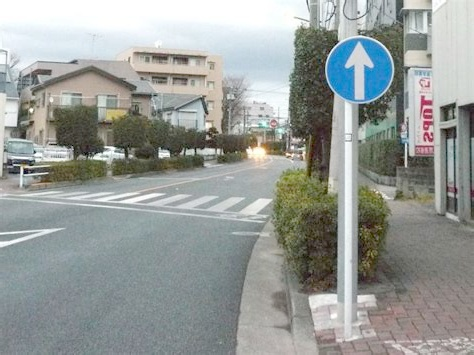Direction_sign: (323, 33, 416, 117)
